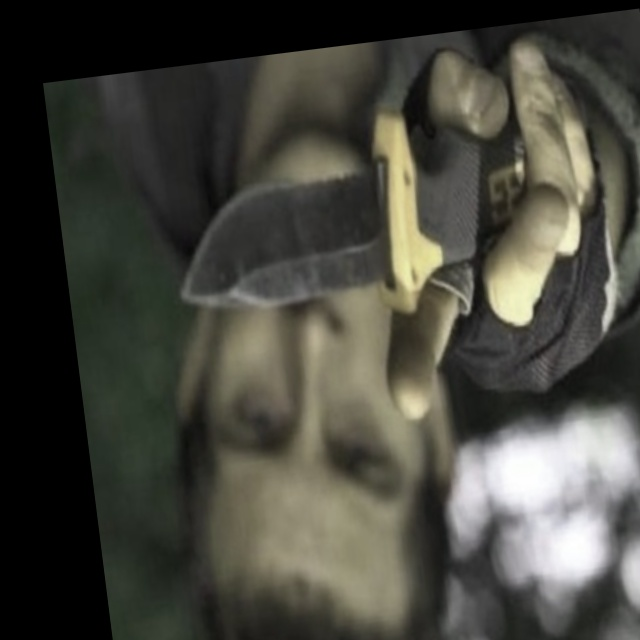Sharp-Object: (163, 89, 540, 340)
